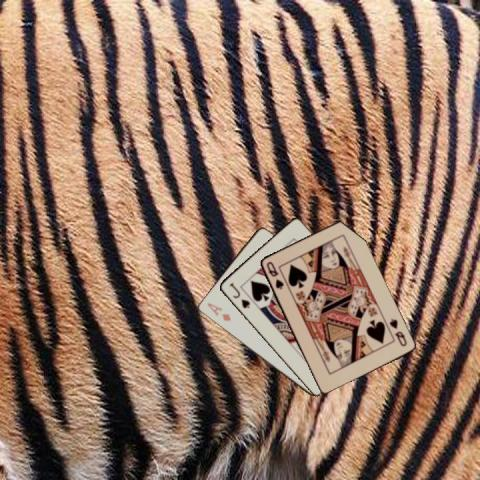Ad: (203, 300, 232, 323)
Js: (226, 279, 251, 310)
Qs: (263, 258, 285, 290), (386, 316, 408, 348)
